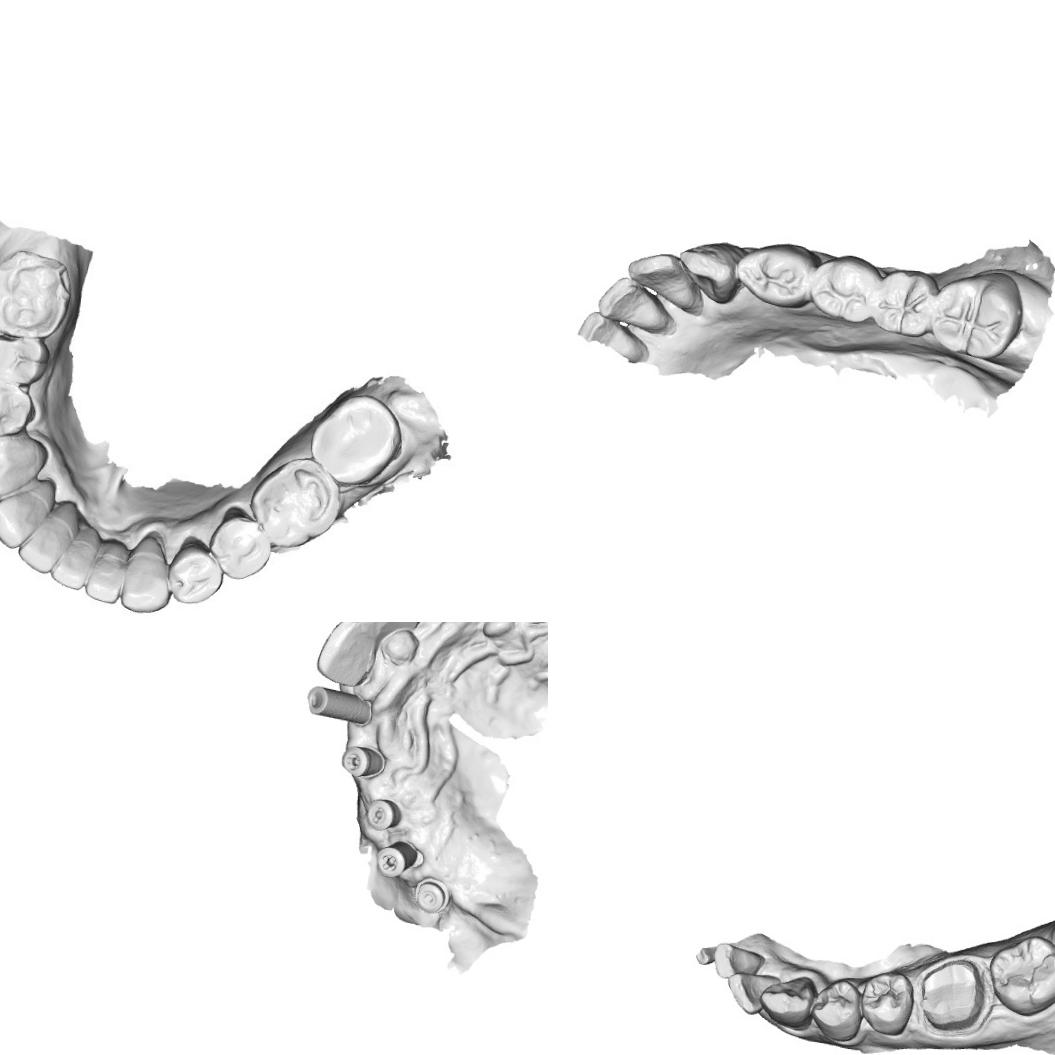canine: (678, 238, 740, 304), (0, 429, 52, 503), (119, 541, 171, 614), (757, 974, 817, 1030)
crown: (913, 952, 994, 1036)
implant: (303, 680, 374, 726), (412, 876, 452, 914)
implant_minus: (363, 797, 404, 833)
implant_plus: (371, 838, 425, 880), (338, 742, 388, 780)
incisor: (626, 252, 701, 316), (595, 273, 669, 334), (313, 622, 379, 688), (16, 510, 77, 574), (0, 479, 53, 549), (49, 518, 98, 592), (82, 528, 128, 606), (726, 970, 782, 1016), (347, 622, 425, 649), (712, 941, 766, 980)
molar: (245, 454, 339, 552), (931, 270, 1024, 362), (312, 393, 404, 485), (0, 247, 78, 341), (986, 933, 1055, 1018), (870, 266, 940, 340)
premolar: (736, 245, 814, 311), (807, 255, 880, 323), (207, 510, 272, 586), (859, 969, 916, 1037), (166, 540, 222, 606), (808, 977, 864, 1042), (0, 332, 50, 386), (0, 381, 38, 436)
